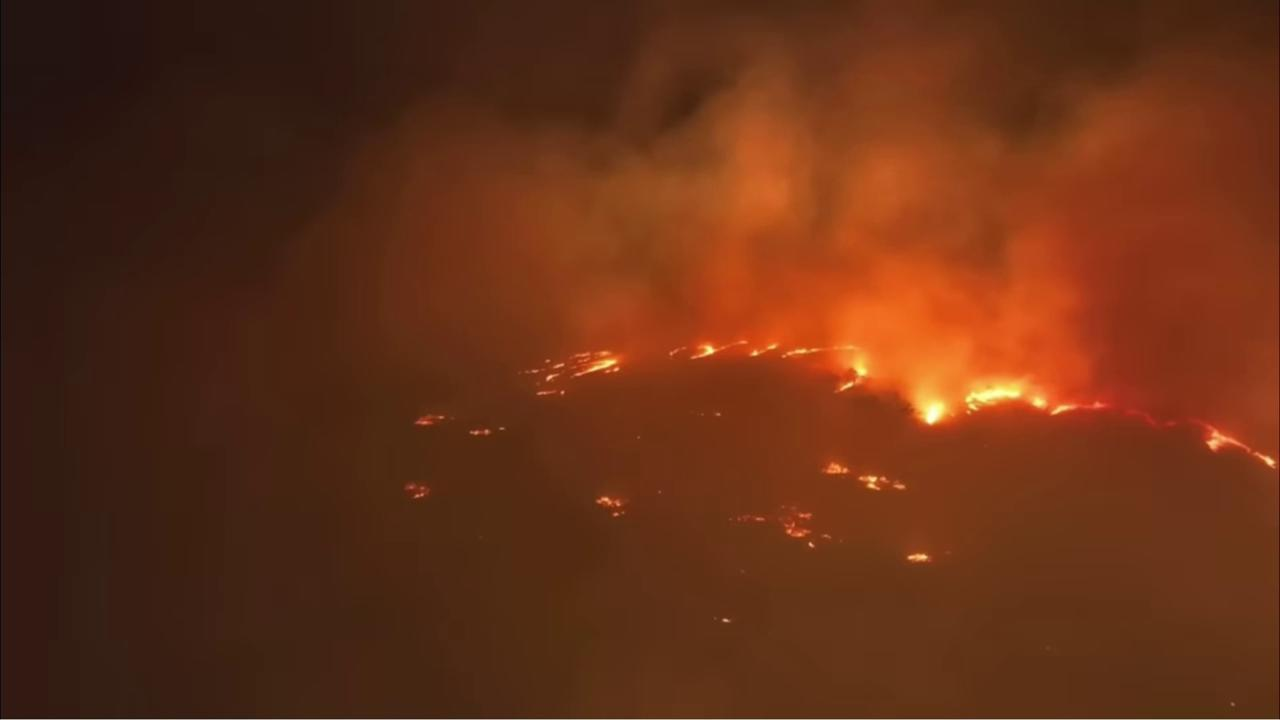fire: (1050, 395, 1277, 470), (518, 344, 626, 400), (781, 340, 871, 396), (963, 374, 1050, 422), (666, 331, 779, 363), (774, 503, 815, 537), (913, 393, 944, 433), (855, 473, 909, 492), (595, 495, 627, 519), (400, 479, 432, 501), (411, 411, 445, 428), (818, 459, 850, 476), (731, 512, 767, 525), (905, 550, 930, 565), (468, 427, 492, 439)
smoke: (0, 0, 1280, 720)
